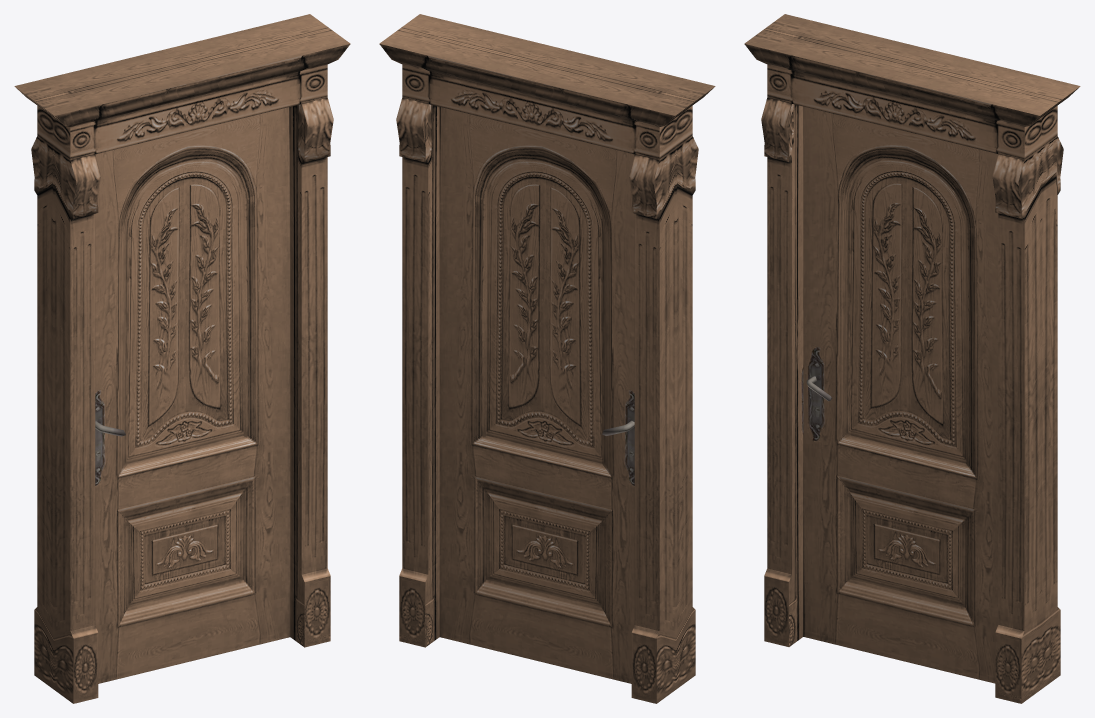
The model's file is DoorInt1B.fbx.
3 renders of one model, left to right at view 1: azimuth 30°, elevation 25°; view 2: azimuth 150°, elevation 25°; view 3: azimuth 330°, elevation 25°, orthographic.
Parts seen in each view (by area): view 1: DoorInt1Bdoor, DoorInt1B; view 2: DoorInt1Bdoor, DoorInt1B; view 3: DoorInt1Bdoor, DoorInt1B.
Part boxes in pixels (box(x1,y1,x2,y2)): DoorInt1Bdoor: box(95, 107, 290, 683); DoorInt1B: box(14, 14, 350, 703); DoorInt1Bdoor: box(439, 107, 634, 683); DoorInt1B: box(379, 14, 715, 703); DoorInt1Bdoor: box(803, 106, 998, 683); DoorInt1B: box(744, 14, 1080, 703).
Size of the model in its own units: 144 by 276 by 38.09.
